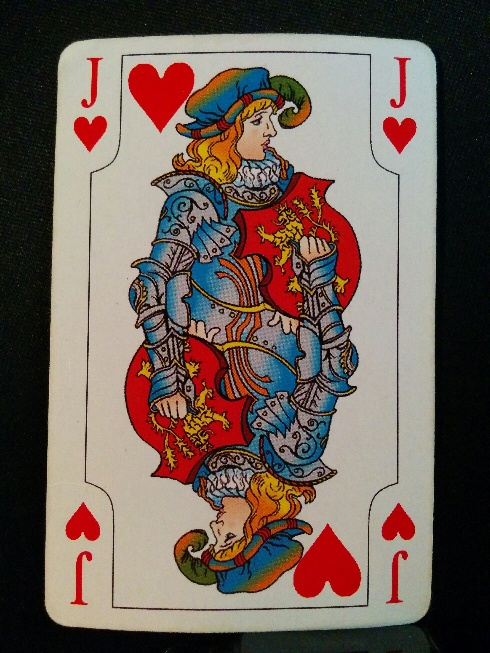Hj: (61, 497, 105, 611), (377, 498, 421, 607), (380, 52, 422, 155), (73, 52, 112, 153)
